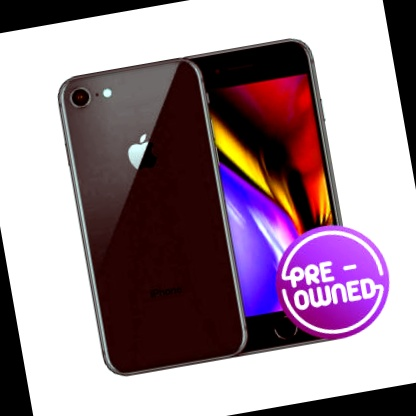iphone: (78, 55, 227, 359)
